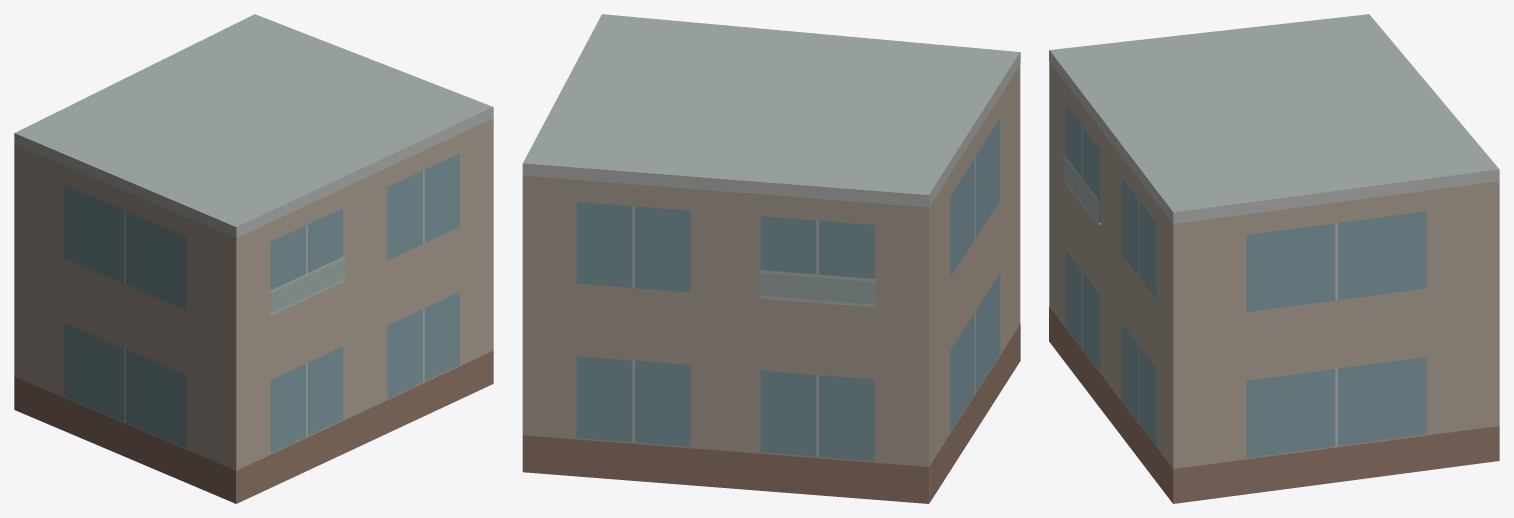
File: survey-upis-32588525.glb
3 renders of one model, left to right at view 1: azimuth 30°, elevation 25°; view 2: azimuth 150°, elevation 25°; view 3: azimuth 270°, elevation 25°, orthographic. The views are drawn at different scales.
Visible parts, largest first — view 1: survey-upis-32588525.tmp; view 2: survey-upis-32588525.tmp; view 3: survey-upis-32588525.tmp.
Boxes of the visible parts, x1,y1,x2,y2 form: survey-upis-32588525.tmp: (14,14,493,503); survey-upis-32588525.tmp: (522,14,1020,503); survey-upis-32588525.tmp: (1049,14,1499,503).
Size of the model in its own units: 8.92 by 6.1 by 8.55.
